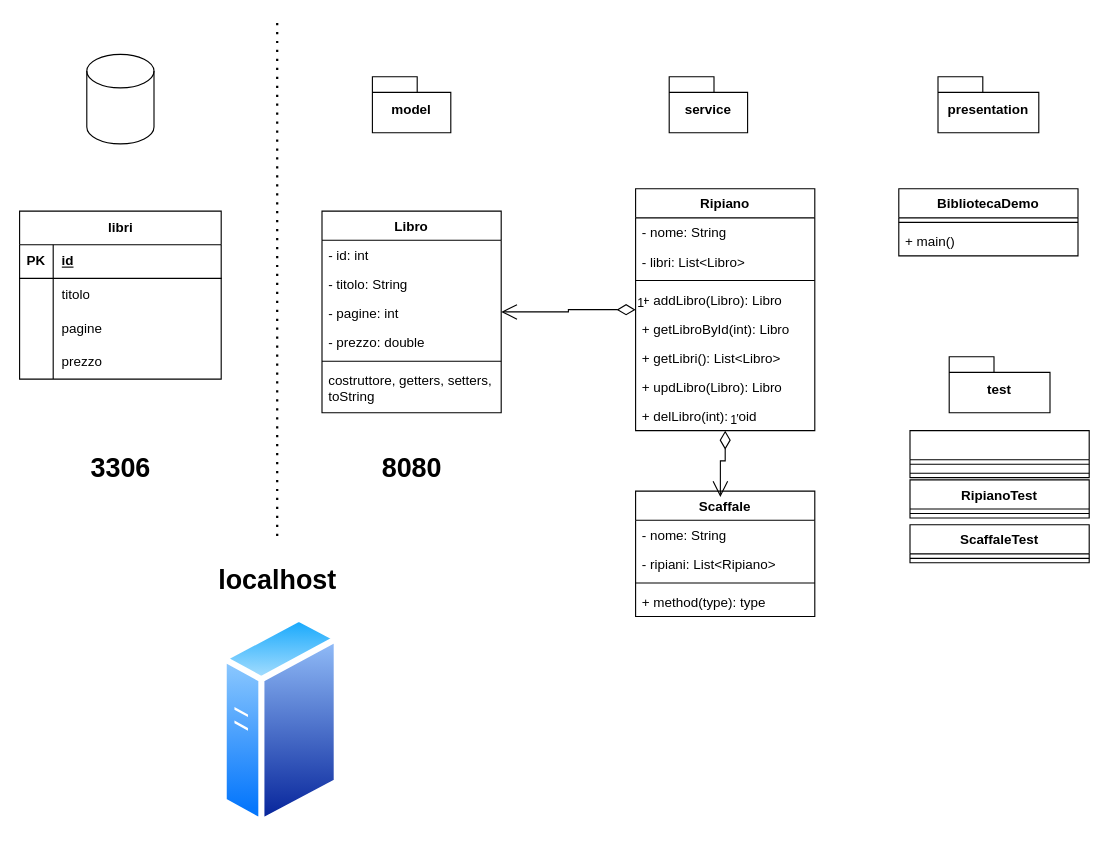
Some shapes in this 1109 by 846 pixel diagram are drawn without their labels. The centre of each missing label's shape, as x and y in pixels:
"db" belongs at (120,98).
"LibroTest" belongs at (999,454).
